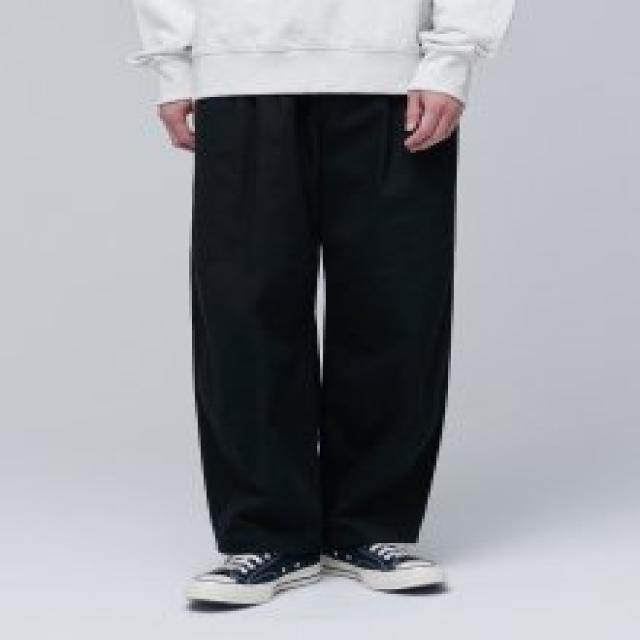long-pants: (191, 91, 461, 555)
